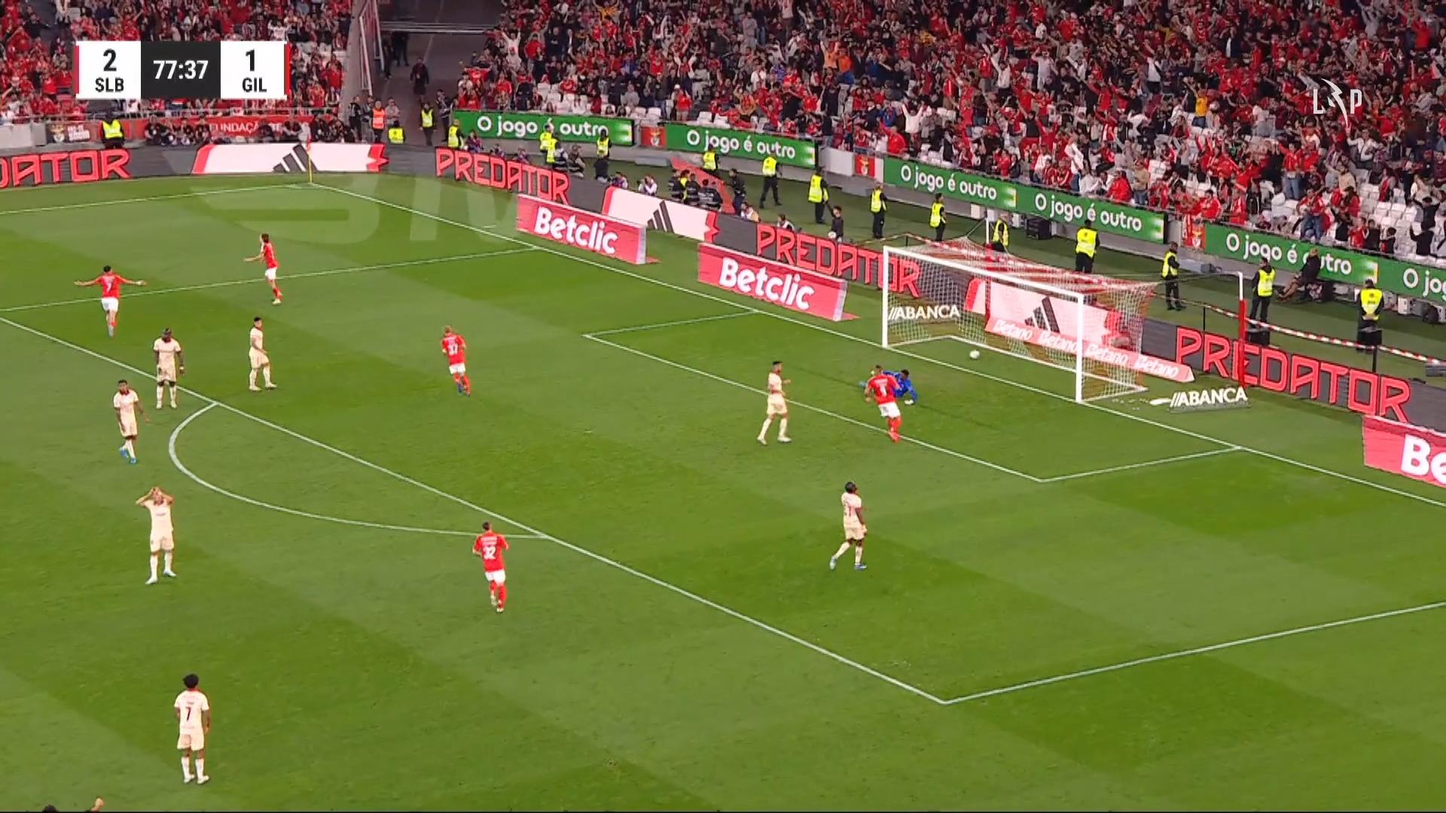ball: (969, 349, 979, 359)
goalkeeper: (862, 366, 917, 405)
player: (73, 263, 146, 337), (172, 673, 212, 784), (134, 485, 177, 584), (471, 520, 510, 614), (828, 480, 868, 571), (111, 378, 150, 464), (862, 364, 904, 443), (755, 359, 792, 445), (243, 232, 282, 305), (152, 327, 185, 410), (440, 324, 471, 397), (246, 316, 276, 391), (893, 367, 917, 405)
